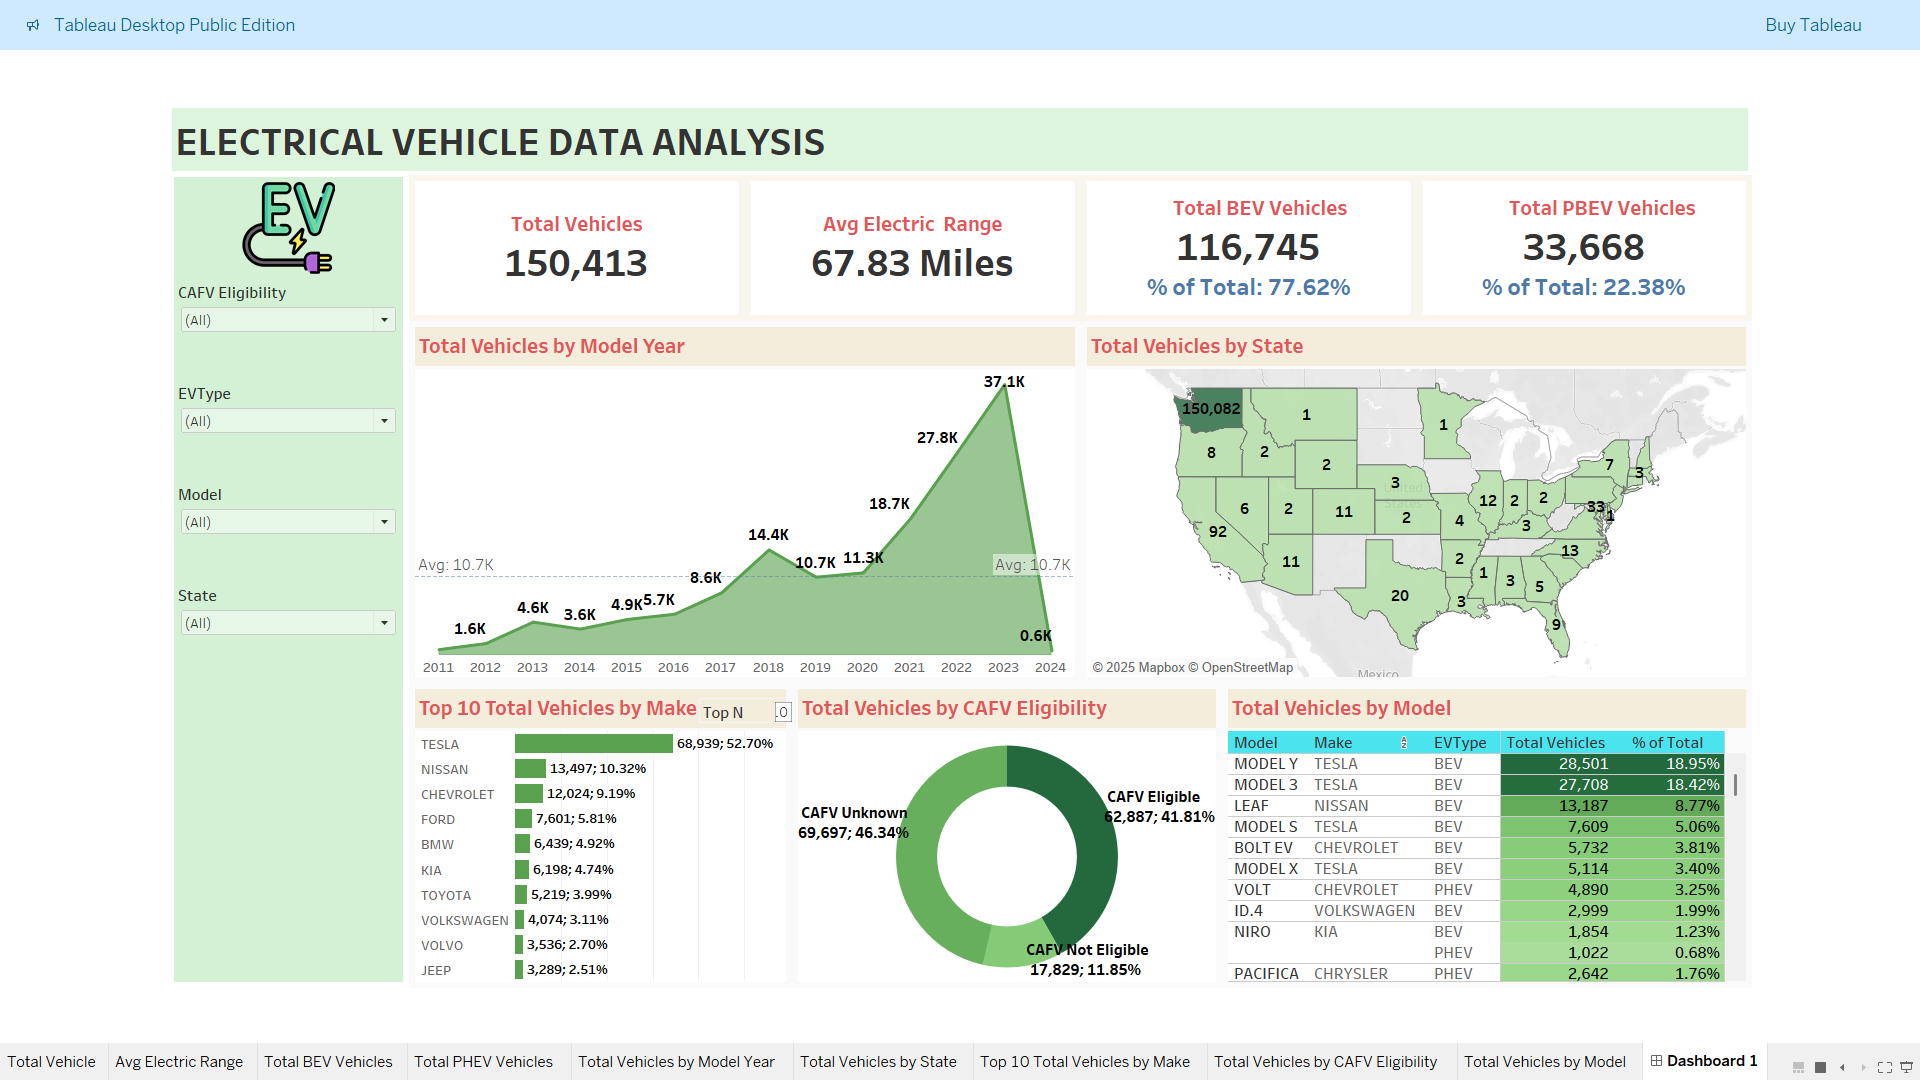

What the dashboard file says about the page in this screenshot:
{"tool":"tableau","page":{"name":"Dashboard 1","canvas":[1600,900],"ordinal":0},"visuals":[{"type":"title","box":[8,8,1584,71]},{"type":"worksheet","title":"Total Vehicle","mark":"Automatic","box":[249,79,336,146]},{"type":"worksheet","title":"Avg Electric Range","mark":"Automatic","box":[585,79,336,146]},{"type":"worksheet","title":"Total BEV Vehicles","mark":"Automatic","box":[921,79,336,146]},{"type":"worksheet","title":"Total PHEV Vehicles ","mark":"Automatic","box":[1257,79,335,146]},{"type":"image","param":"C:/Users/lk799/Downloads/EV.png","box":[14,81,229,101]},{"type":"filter","title":"Total Vehicles by Model Year","param":"[federated.1dlsvyl17z2dnz118qf4a0d7me0x].[none:Clean Alternative Fuel Vehicle (C","box":[14,182,229,101]},{"type":"worksheet","title":"Total Vehicles by Model Year","mark":"Area","rows":["Calculation_1697857070055792640","Calculation_1697857070055792640"],"cols":["Model Year"],"box":[249,225,672,362]},{"type":"worksheet","title":"Total Vehicles by State","mark":"Multipolygon","box":[921,225,671,362]},{"type":"filter","title":"Total Vehicles by Model Year","param":"[federated.1dlsvyl17z2dnz118qf4a0d7me0x].[none:Electric Vehicle Type:nk]","box":[14,283,229,101]},{"type":"filter","title":"Total Vehicles by Model Year","param":"[federated.1dlsvyl17z2dnz118qf4a0d7me0x].[none:Model:nk]","box":[14,384,229,101]},{"type":"filter","title":"Total Vehicles by Model Year","param":"[federated.1dlsvyl17z2dnz118qf4a0d7me0x].[none:State:nk]","box":[14,485,229,101]},{"type":"blank","box":[14,586,229,100]},{"type":"worksheet","title":"Top 10 Total Vehicles by Make","mark":"Automatic","rows":["Make"],"cols":["Calculation_1697857070055792640"],"box":[249,587,383,305]},{"type":"worksheet","title":"Total Vehicles by CAFV Eligibility","mark":"Pie","rows":["Calculation_1697857070089392135","Calculation_1697857070089392135"],"box":[632,587,430,305]},{"type":"worksheet","title":"Total Vehicles by Model","mark":"Square","rows":["Model","Make","Electric Vehicle Type"],"box":[1062,587,530,305]},{"type":"parameter","param":"[Parameters].[Parameter 1]","box":[539,602,97,25]},{"type":"blank","box":[14,686,229,100]},{"type":"blank","box":[14,786,229,100]}]}

Visuals, with their boxes on the page's 1600x900 design canvas (x1, y1, x2, y2). These are canvas units, not pixel positions in the 1920x1080 screenshot, which may show the page scaled, cropped or inside an application window:
title: x1=8 y1=8 x2=1592 y2=79
"Total Vehicle" worksheet: x1=249 y1=79 x2=585 y2=225
"Avg Electric Range" worksheet: x1=585 y1=79 x2=921 y2=225
"Total BEV Vehicles" worksheet: x1=921 y1=79 x2=1257 y2=225
"Total PHEV Vehicles " worksheet: x1=1257 y1=79 x2=1592 y2=225
image: x1=14 y1=81 x2=243 y2=182
"Total Vehicles by Model Year" filter: x1=14 y1=182 x2=243 y2=283
"Total Vehicles by Model Year" worksheet (Area marks): x1=249 y1=225 x2=921 y2=587
"Total Vehicles by State" worksheet (Multipolygon marks): x1=921 y1=225 x2=1592 y2=587
"Total Vehicles by Model Year" filter: x1=14 y1=283 x2=243 y2=384
"Total Vehicles by Model Year" filter: x1=14 y1=384 x2=243 y2=485
"Total Vehicles by Model Year" filter: x1=14 y1=485 x2=243 y2=586
blank: x1=14 y1=586 x2=243 y2=686
"Top 10 Total Vehicles by Make" worksheet: x1=249 y1=587 x2=632 y2=892
"Total Vehicles by CAFV Eligibility" worksheet (Pie marks): x1=632 y1=587 x2=1062 y2=892
"Total Vehicles by Model" worksheet (Square marks): x1=1062 y1=587 x2=1592 y2=892
parameter: x1=539 y1=602 x2=636 y2=627
blank: x1=14 y1=686 x2=243 y2=786
blank: x1=14 y1=786 x2=243 y2=886
